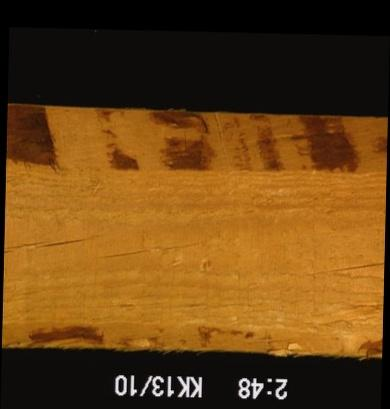split: (97, 242, 205, 264), (288, 257, 382, 282), (4, 232, 93, 254)
wave: (5, 104, 385, 170), (0, 326, 380, 351)
